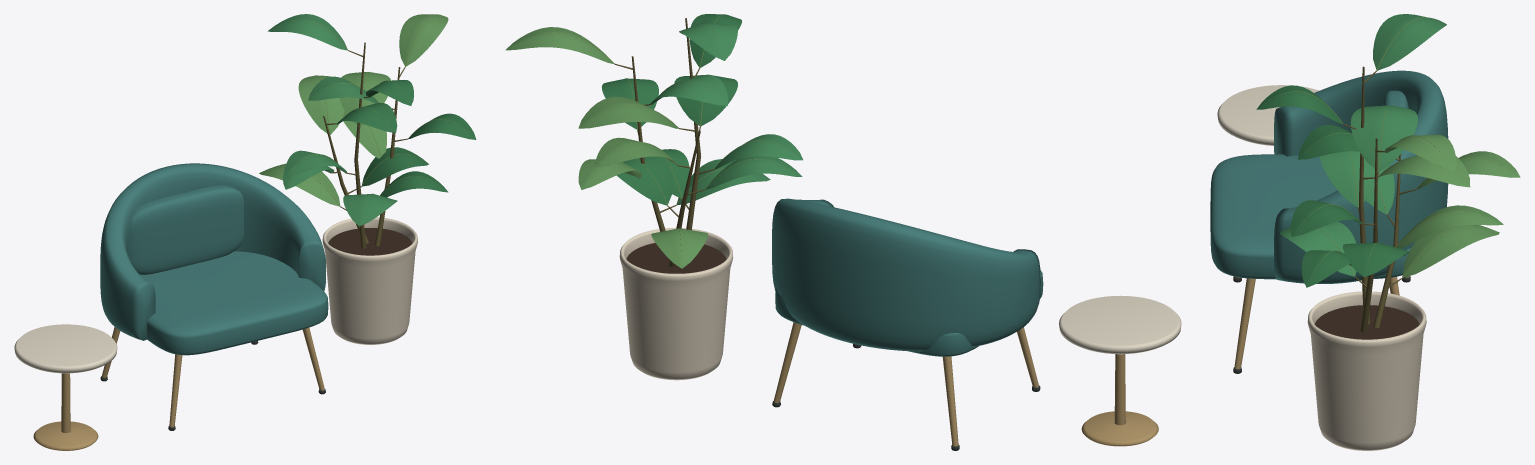
File: lounge.glb
The picture shows the model from 3 angles, left to right: view 1: azimuth 30°, elevation 25°; view 2: azimuth 150°, elevation 25°; view 3: azimuth 270°, elevation 25°; orthographic projection. The views are drawn at different scales.
Parts seen in each view (by area): view 1: LoungeChair, PlanterAndPlant, SideTable; view 2: PlanterAndPlant, LoungeChair, SideTable; view 3: PlanterAndPlant, LoungeChair, SideTable.
Boxes of the visible parts, x1=… form: LoungeChair: x1=100, y1=163, x2=328, y2=430; PlanterAndPlant: x1=259, y1=14, x2=476, y2=344; SideTable: x1=14, y1=324, x2=117, y2=450; PlanterAndPlant: x1=505, y1=14, x2=802, y2=380; LoungeChair: x1=772, y1=198, x2=1043, y2=450; SideTable: x1=1059, y1=295, x2=1181, y2=446; PlanterAndPlant: x1=1256, y1=14, x2=1520, y2=450; LoungeChair: x1=1210, y1=70, x2=1448, y2=373; SideTable: x1=1217, y1=85, x2=1318, y2=145.
Bounding box in the file's own units: 2.98 × 1.78 × 1.31.
